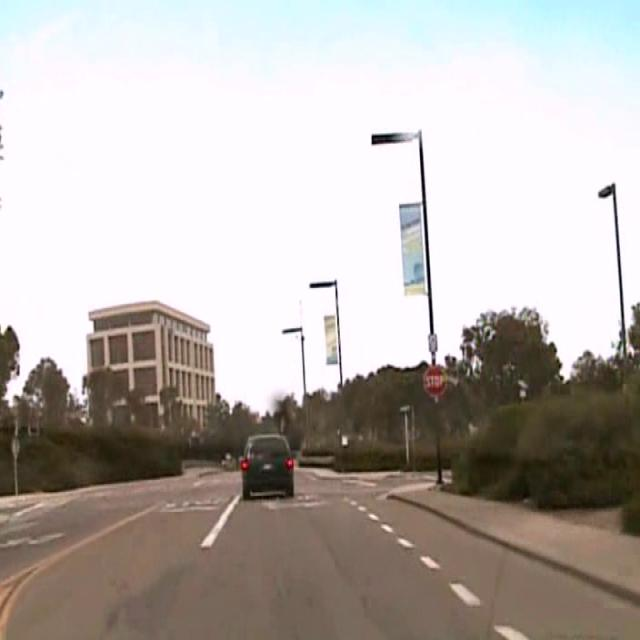stop_sign: (422, 363, 446, 397)
